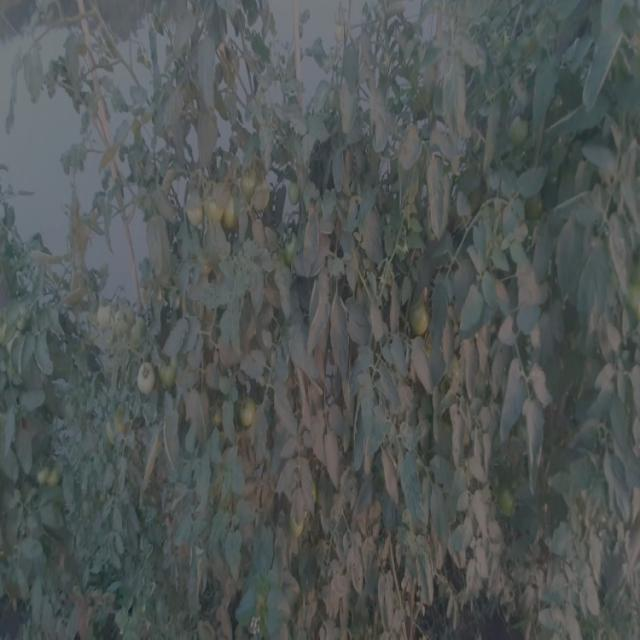tomato: (404, 300, 440, 339), (136, 361, 163, 403), (239, 169, 267, 209), (497, 489, 526, 523), (236, 394, 257, 439), (95, 301, 122, 334), (506, 117, 532, 151), (34, 465, 63, 491), (103, 413, 125, 446), (225, 192, 244, 229), (289, 509, 308, 545), (524, 195, 547, 222), (624, 280, 640, 316), (163, 358, 179, 388), (207, 193, 224, 221), (188, 200, 203, 226)
